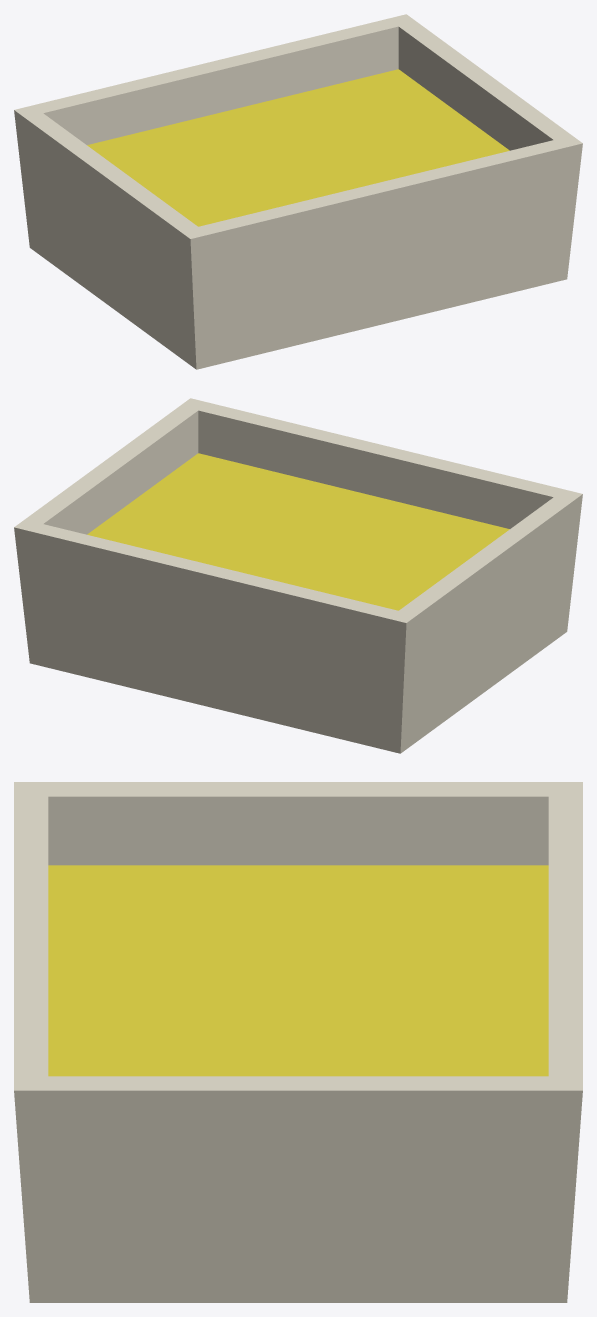
File: voipaketti.fbx
3 views of the same model, one above another, from view 1: azimuth 30°, elevation 25°; view 2: azimuth 150°, elevation 25°; view 3: azimuth 270°, elevation 25° (orthographic). The views are drawn at different scales.
Parts seen in each view (by area): view 1: Cube; view 2: Cube; view 3: Cube.
Part boxes in pixels (x1,y1,x2,y2): Cube: (14,14,582,369); Cube: (14,398,582,753); Cube: (14,782,582,1302).
Size of the model in its own units: 360 by 120 by 280.
